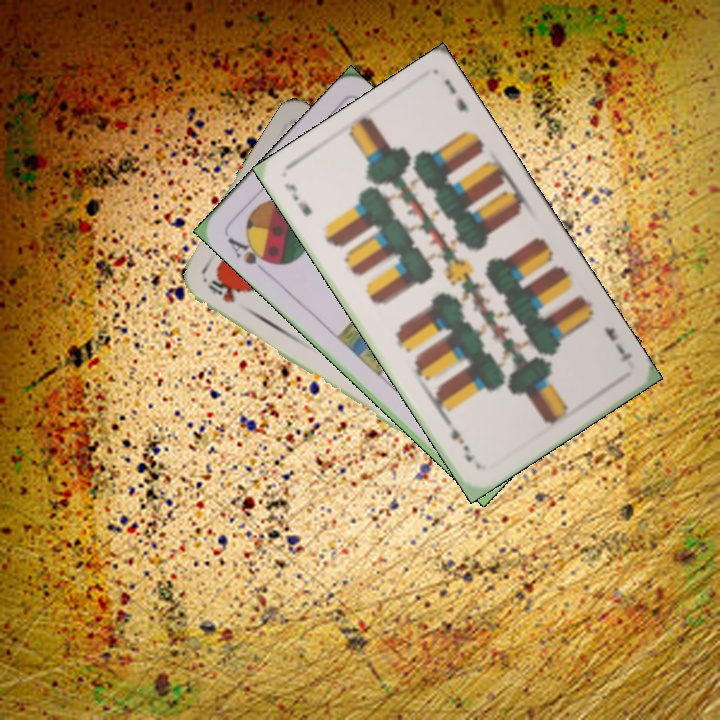E7: (599, 322, 635, 365), (280, 179, 315, 219)
HO: (203, 275, 243, 306)
SA: (223, 232, 277, 277)
